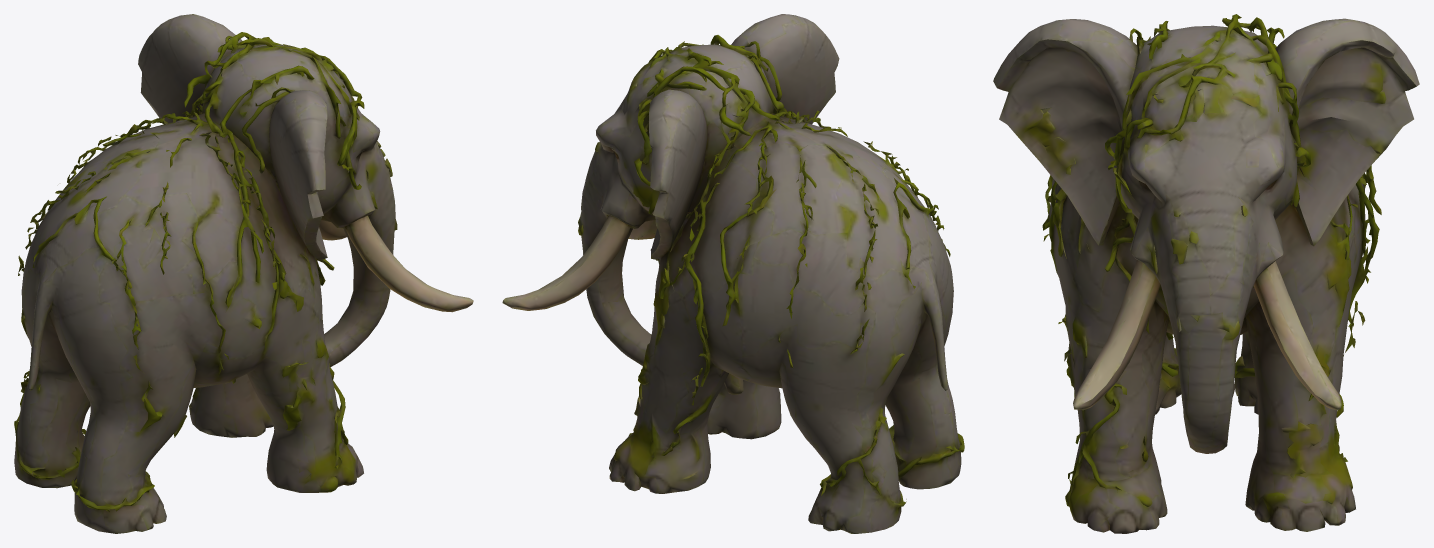
File: stoneElephant.glb
3 renders of one model, left to right at view 1: azimuth 30°, elevation 25°; view 2: azimuth 150°, elevation 25°; view 3: azimuth 270°, elevation 25°, orthographic. The views are drawn at different scales.
Visible parts, largest first — view 1: geometry_0; view 2: geometry_0; view 3: geometry_0.
Boxes of the visible parts, <box> form: geometry_0: <box>14,14,473,533</box>; geometry_0: <box>502,14,964,533</box>; geometry_0: <box>993,14,1419,533</box>.
Bounding box in the file's own units: 0.9969 × 0.9887 × 0.7916.
Materials: 1 (1 with a texture image).
